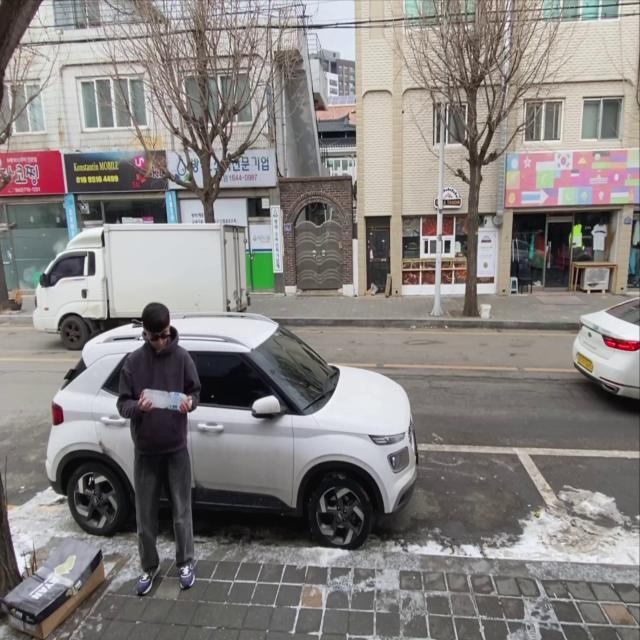bare_hand: (136, 391, 154, 412), (177, 395, 194, 413)
